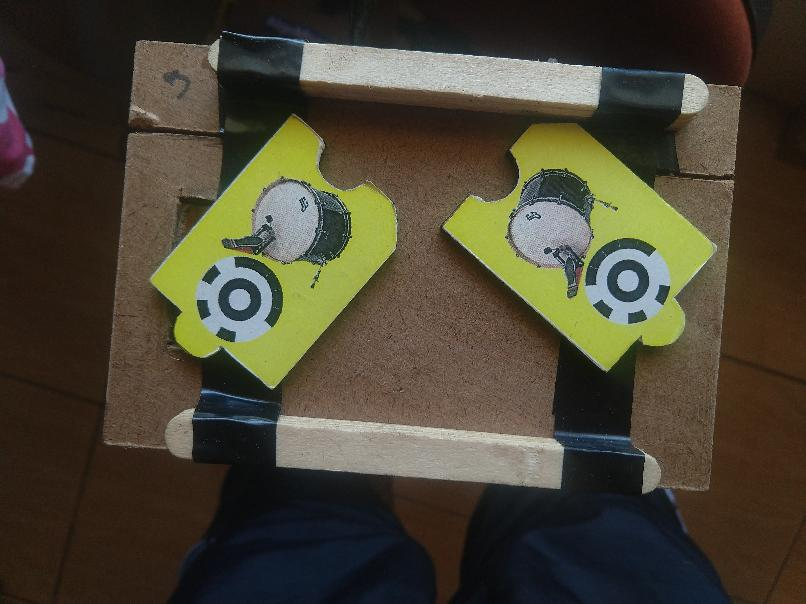bumbo: (141, 99, 398, 395), (444, 107, 723, 374)
